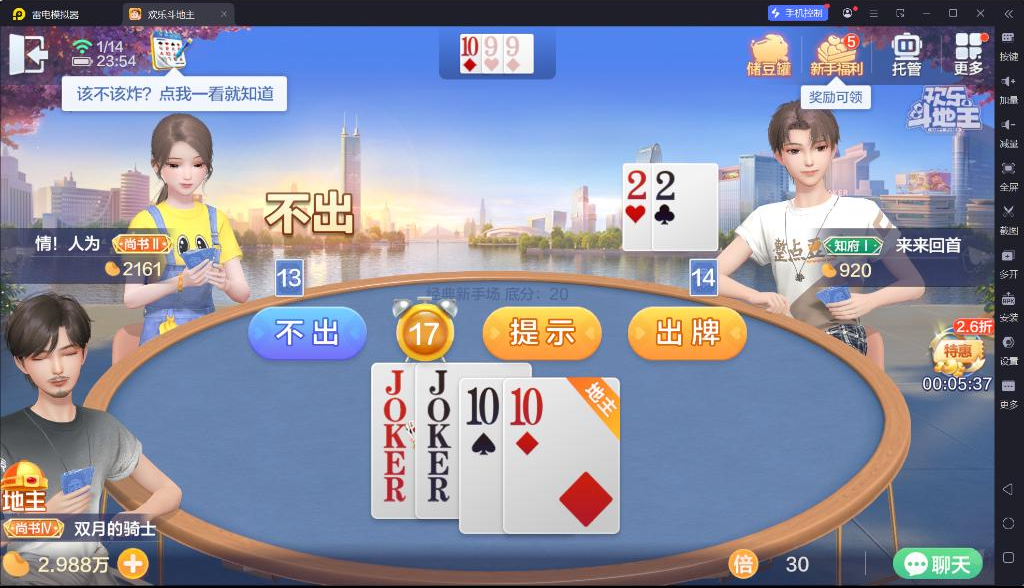JOKER: (378, 367, 408, 452)
joker: (421, 367, 454, 454)
nine: (482, 35, 500, 57), (504, 35, 520, 58)
ten: (465, 385, 502, 429), (509, 385, 545, 429), (461, 34, 480, 57)
two: (655, 166, 678, 202), (626, 167, 648, 201)
